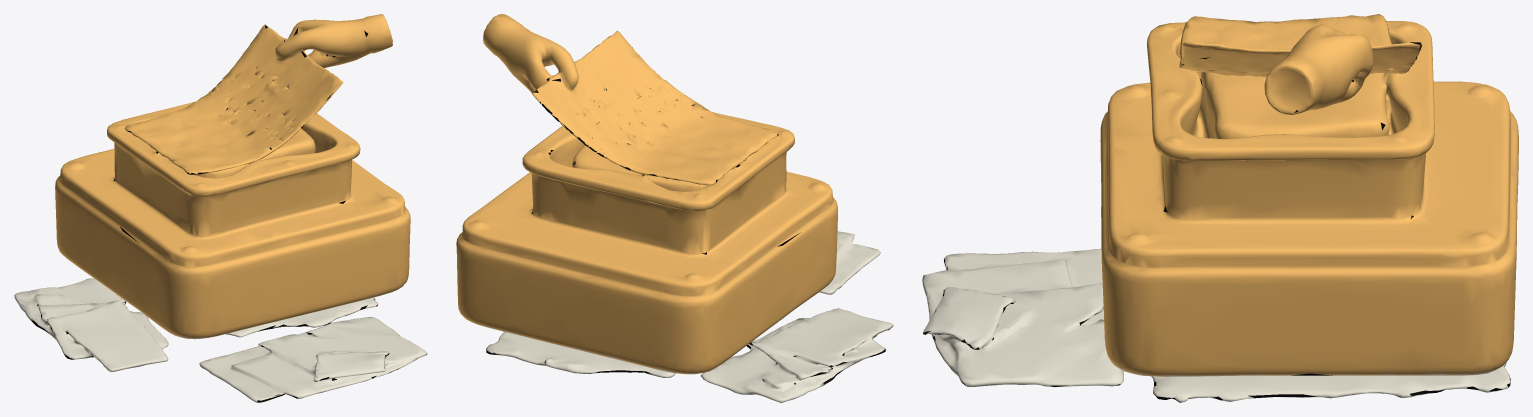
File: fiberglass-layup.glb
3 renders of one model, left to right at view 1: azimuth 30°, elevation 25°; view 2: azimuth 150°, elevation 25°; view 3: azimuth 270°, elevation 25°, orthographic. The views are drawn at different scales.
Parts seen in each view (by area): view 1: tmpyiheo_6y.ply; view 2: tmpyiheo_6y.ply; view 3: tmpyiheo_6y.ply.
Boxes of the visible parts, bbox=[...] form: tmpyiheo_6y.ply: bbox=[14, 14, 427, 402]; tmpyiheo_6y.ply: bbox=[456, 14, 893, 402]; tmpyiheo_6y.ply: bbox=[922, 14, 1518, 402].
Bounding box in the file's own units: 1.96 × 1.34 × 1.95.
Materials: 1 (1 with a texture image).
